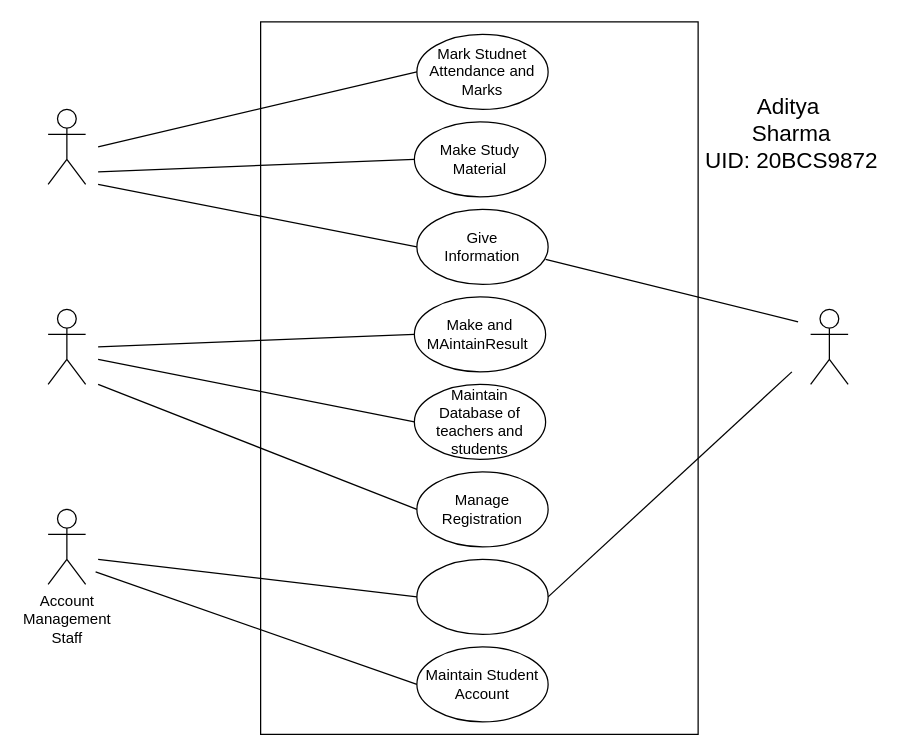
The diagram is 906 pixels wide and 756 high, and some of its shapes have lost their labels. The shapes that lost their labels are listed below. From the top down, each one's box as (x1, y1, x2, y2) in pixels, then its label:
(47, 108, 86, 184): Teacher
(47, 308, 86, 384): Departmental Staff
(809, 308, 848, 384): Student
(416, 558, 548, 634): Pay Fees
